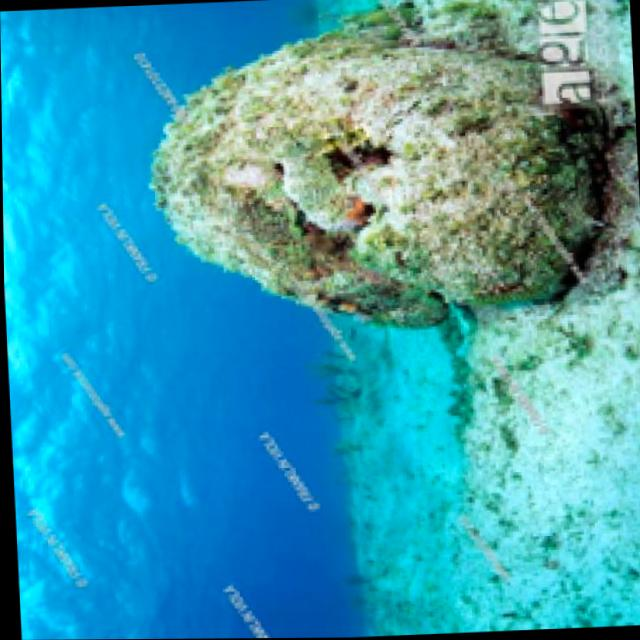Dead Coral: (125, 9, 609, 348)
